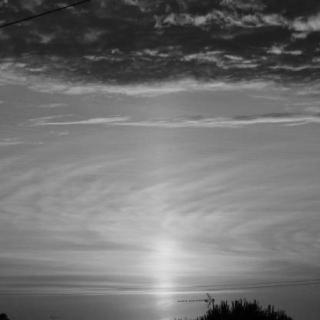other: (152, 239, 190, 310)
